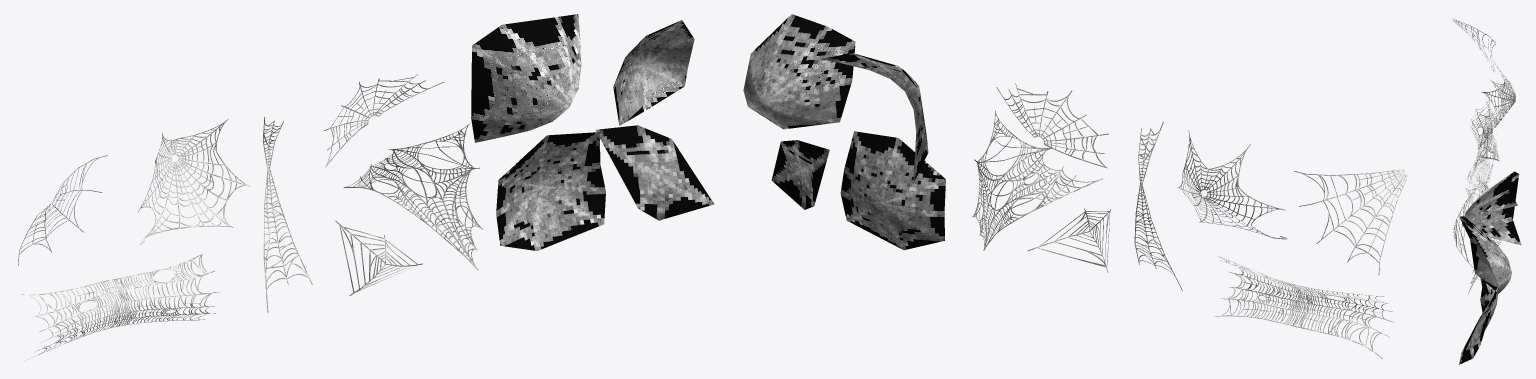
The model's file is cobwebPack.glb.
3 views of the same model, side by side, from view 1: azimuth 30°, elevation 25°; view 2: azimuth 150°, elevation 25°; view 3: azimuth 270°, elevation 25° (orthographic). The views are drawn at different scales.
Parts seen in each view (by area): view 1: model; view 2: model; view 3: model.
Boxes of the visible parts, <box> form: model: <box>18,14,714,359</box>; model: <box>743,14,1408,358</box>; model: <box>1452,18,1521,364</box>.
Bounding box in the file's own units: 8 × 2.42 × 1.12.
3 materials, 3 textured.
